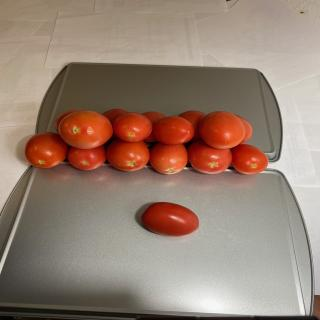Chilli: (24, 108, 270, 175)
Tomato: (59, 110, 113, 149), (141, 202, 199, 237), (198, 111, 246, 149), (24, 132, 68, 168), (188, 140, 232, 174), (106, 139, 150, 171), (149, 142, 188, 174), (153, 116, 195, 145), (112, 112, 152, 142), (231, 144, 269, 175), (68, 145, 106, 170), (178, 110, 206, 140), (142, 111, 166, 142), (54, 110, 81, 134), (234, 114, 253, 144), (101, 108, 128, 124)
